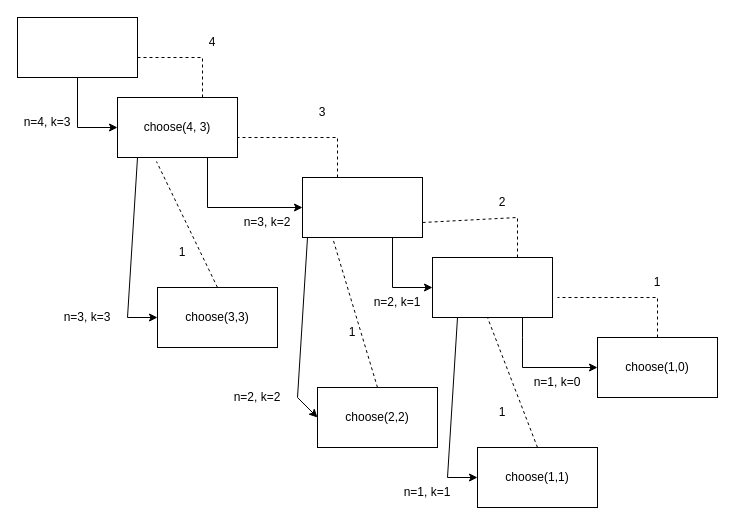
The diagram is 735 pixels wide and 525 high, and some of its shapes have lost their labels. The shapes that lost their labels are listed below. From the top down, each one's box as (x1, y1, x2, y2) in pixels, then its label:
(16, 16, 138, 78): main
(302, 176, 422, 238): choose(3,2)
(432, 256, 552, 318): choose(2,1)
